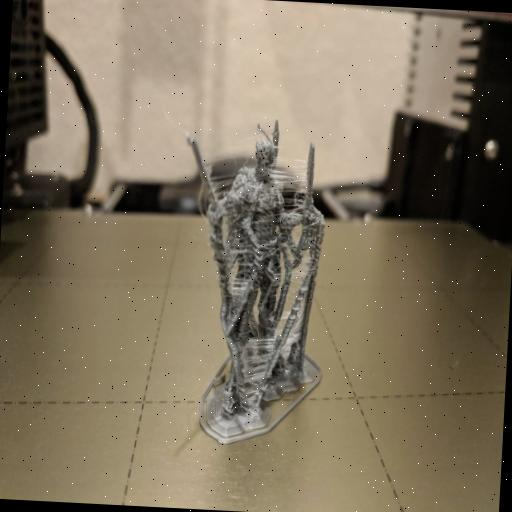stringing: (237, 325, 278, 390), (263, 148, 305, 204), (222, 240, 254, 300), (203, 168, 241, 202)
